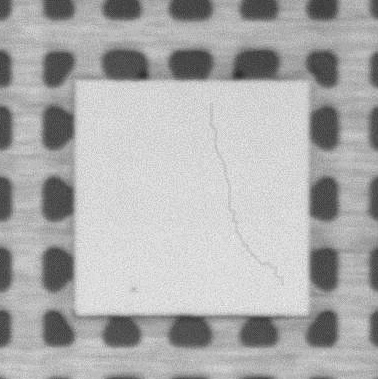DIE_INK: (130, 285, 138, 294)
